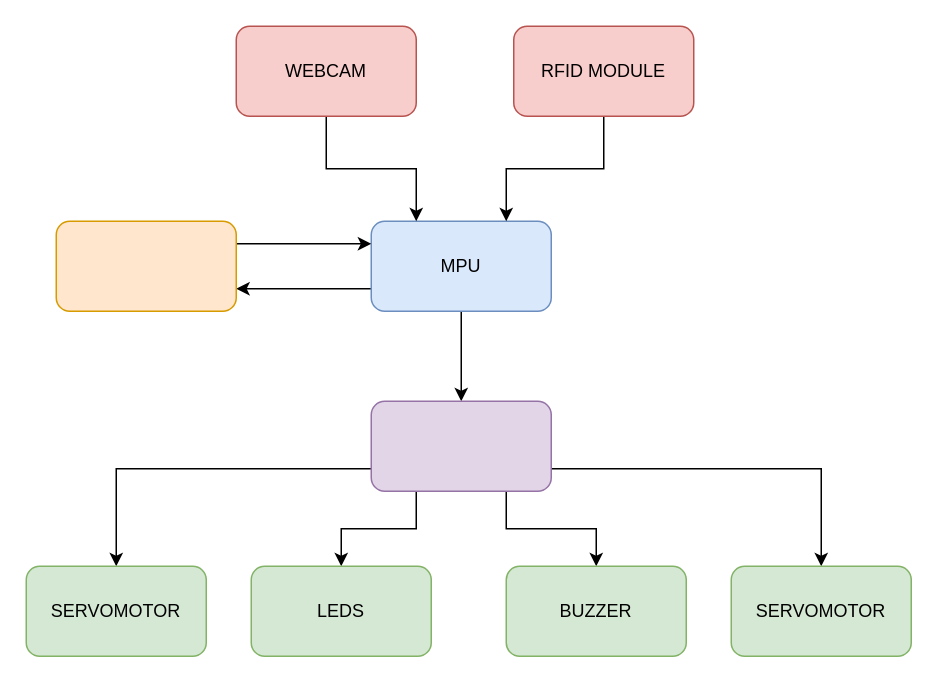
Some shapes in this 938 by 683 pixel diagram are drawn without their labels. The shapes that lost their labels are listed below. From the top down, each one's centre as x and y in pixels, then its label:
point (145, 265): TFT LCD
point (460, 445): MCU
